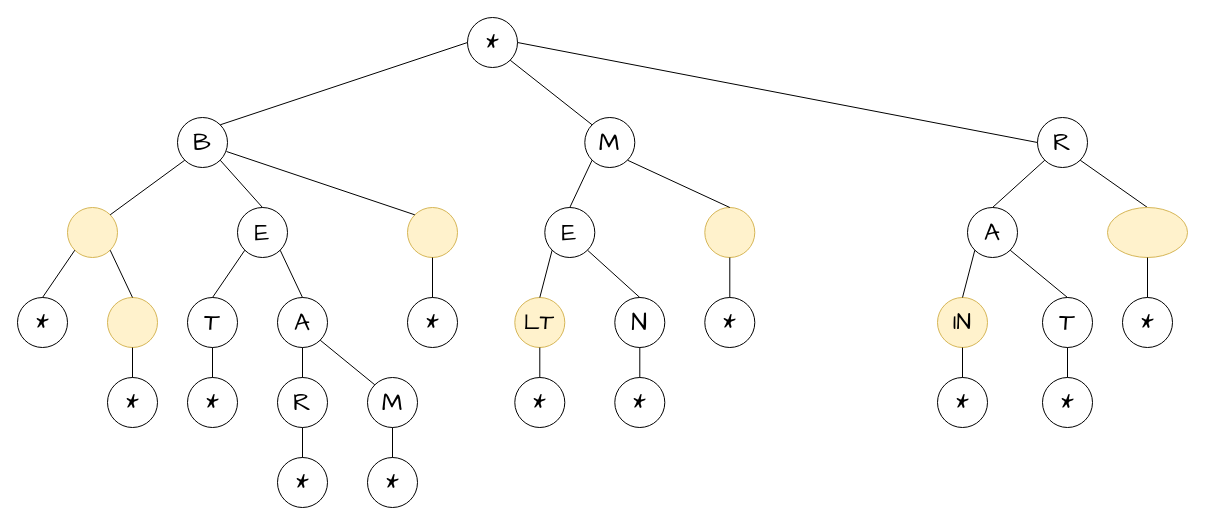
This 1205x525 diagram has some shape labels left out. The shapes that lost their labels are listed below. From the top down, each one's centre as x and y in pixels, then its label:
[92,232]: ALL
[432,232]: LEND
[729,232]: ONEY
[1147,232]: ESEARCH
[132,322]: ER
